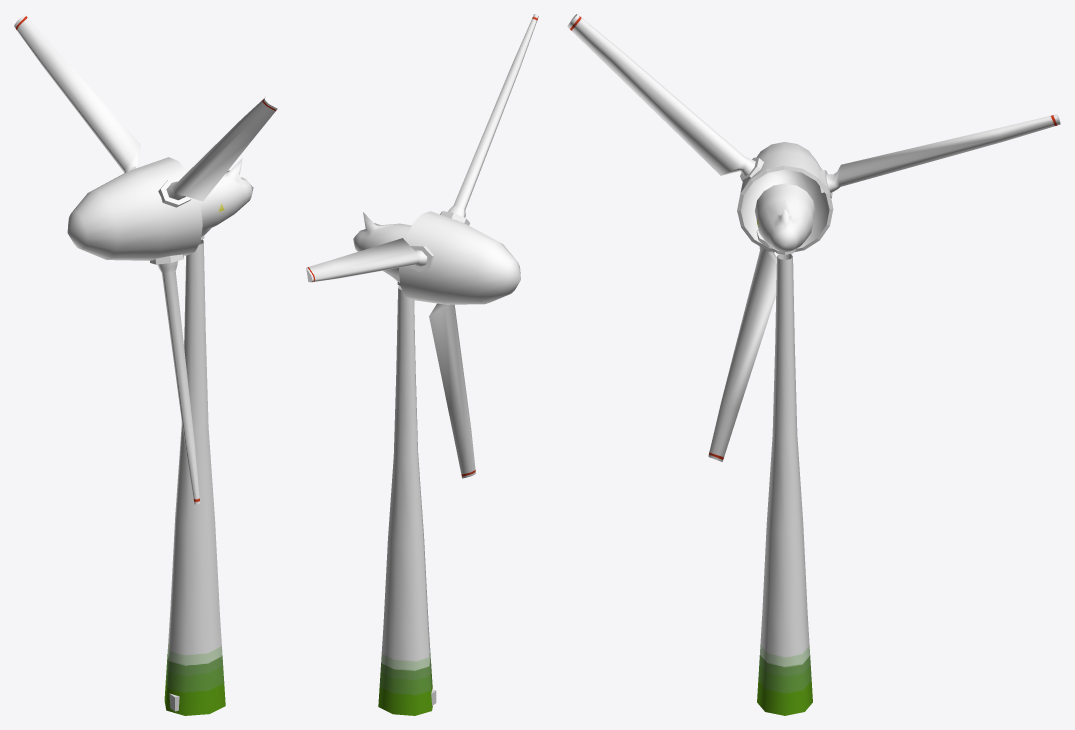
The model's file is scaled_turbine.glb.
3 views of the same model, side by side, from view 1: azimuth 30°, elevation 25°; view 2: azimuth 150°, elevation 25°; view 3: azimuth 270°, elevation 25° (orthographic). The views are drawn at different scales.
Visible parts, largest first — view 1: motor_2, pole, motor_1; view 2: motor_2, pole, motor_1; view 3: motor_2, pole, motor_1.
Part boxes in pixels (<box>): motor_2: <box>14,14,277,504</box>; pole: <box>164,239,225,715</box>; motor_1: <box>199,158,253,239</box>; motor_2: <box>306,14,538,478</box>; pole: <box>378,285,432,715</box>; motor_1: <box>353,212,411,285</box>; motor_2: <box>567,14,1060,461</box>; pole: <box>757,254,812,715</box>; motor_1: <box>754,183,815,254</box>.
Bounding box in the file's own units: 68.29 × 244 × 162.
Materials: 2 (1 with a texture image).
